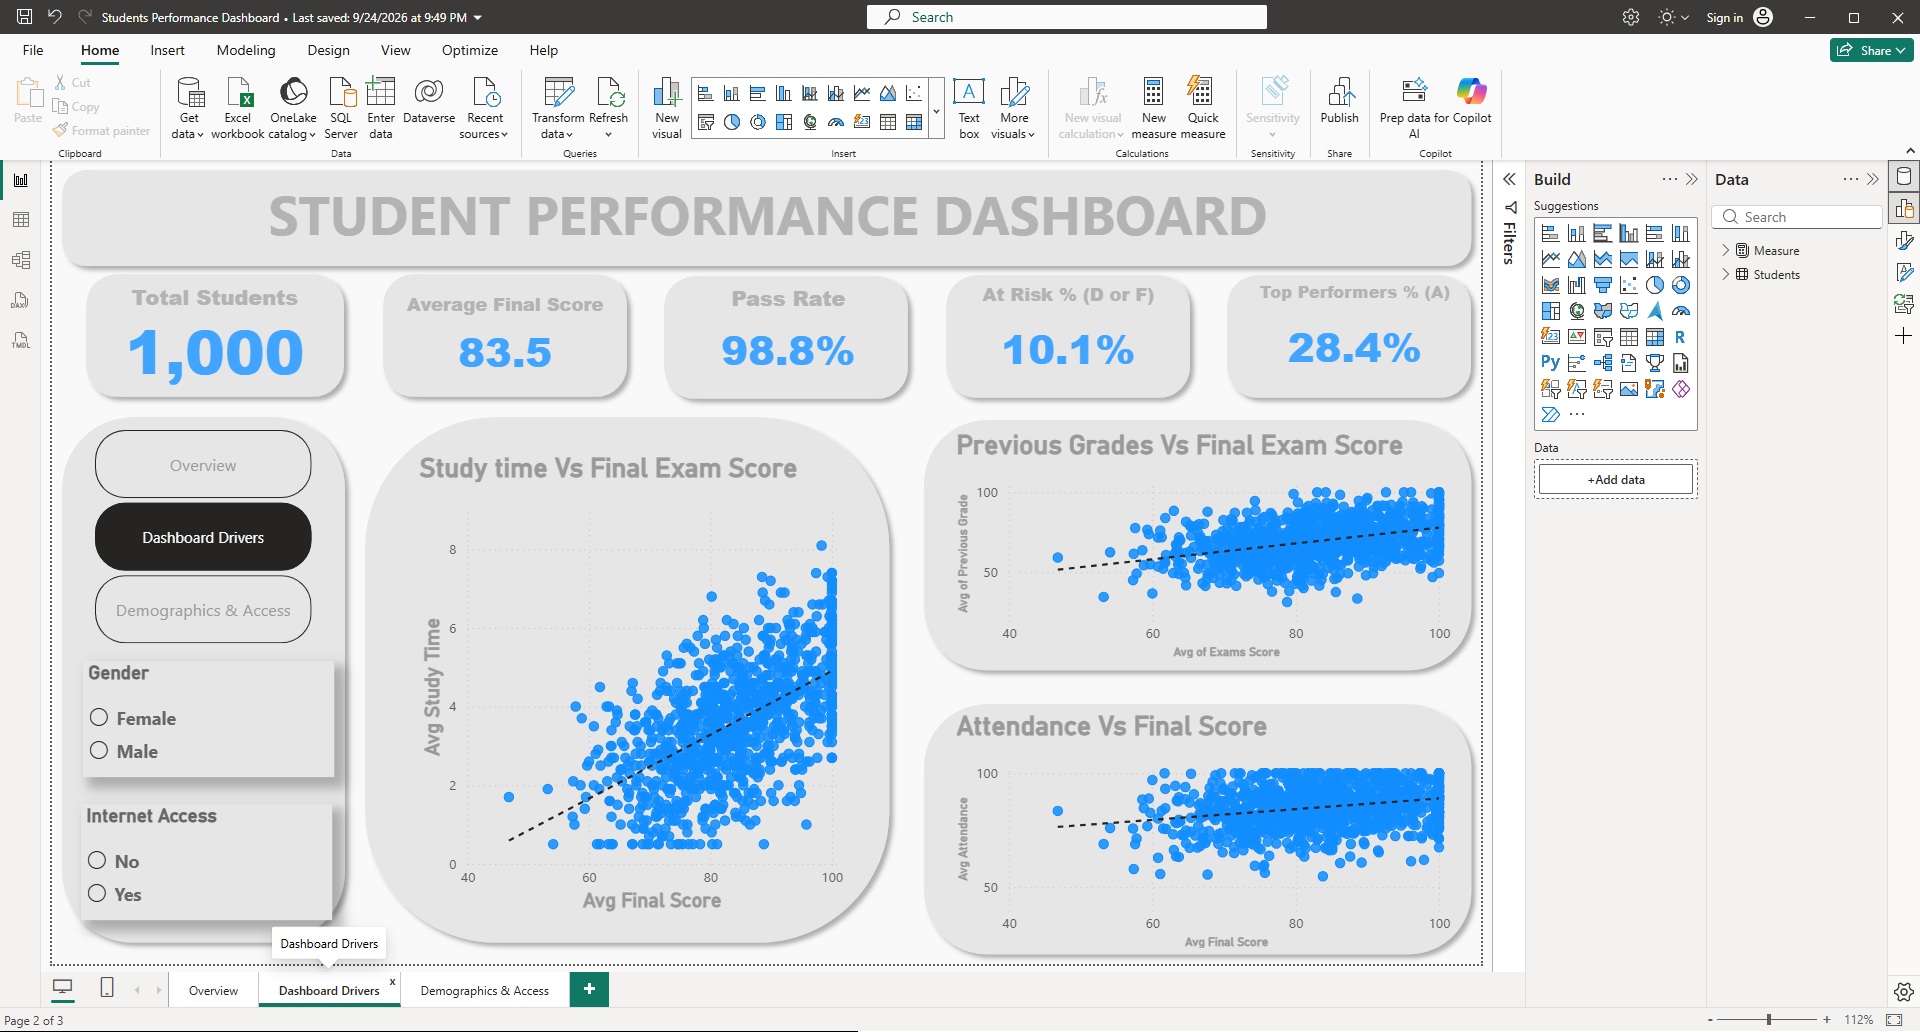

What the dashboard file says about the page in this screenshot:
{"tool":"powerbi","page":{"name":"Dashboard Drivers","canvas":[1280,720],"ordinal":1},"visuals":[{"type":"shape","box":[771.9,223.8,508.1,242.1],"z":0},{"type":"shape","box":[0,0,1280,103.9],"z":1000},{"type":"textbox","box":[126.7,10.3,1027.7,84.5],"z":2000},{"type":"shape","box":[21.6,93.4,248.9,127.9],"z":2000,"group":"g2"},{"type":"shape","box":[287.2,93.4,236.4,127.9],"z":3000,"group":"g1"},{"type":"shape","box":[271.8,221.5,487.6,488.7],"z":3000},{"type":"scatterChart","title":"Study time Vs Final Exam Score","fields":{"X":["Avg(Students.final_exam_score)"],"Y":["Avg(Students.study_time_hours)"],"Category":["Students.student_id"]},"box":[324.3,261.5,393.9,416.8],"z":4000},{"type":"card","title":"Average Final Score","fields":{"Values":["Measure.Average Final Score"]},"box":[311.2,117.4,188.4,90.2],"z":5000,"group":"g1"},{"type":"shape","box":[771.9,478.4,508.1,242.1],"z":5000},{"type":"scatterChart","title":"Previous Grades Vs Final Exam Score","fields":{"X":["Avg(Students.final_exam_score)"],"Y":["Avg(Students.previous_grade)"],"Category":["Students.student_id"]},"box":[805,240.9,456.7,210.1],"z":6000},{"type":"scatterChart","title":"Attendance Vs Final Score","fields":{"X":["Avg(Students.final_exam_score)"],"Y":["Avg(Students.attendance_percent)"],"Category":["Students.student_id"]},"box":[805,492.1,456.7,218.1],"z":7000},{"type":"group","id":"g1","title":"Group 2","box":[287.2,93.4,235.9,127.8],"z":8000},{"type":"shape","box":[1043.6,93.6,236.4,127.9],"z":8000,"group":"g5"},{"type":"group","id":"g2","title":"Group 3","box":[21.6,93.4,249.7,127.8],"z":9000},{"type":"shape","box":[791.4,93.6,236.4,127.9],"z":9000,"group":"g4"},{"type":"group","id":"g3","title":"Group 1","box":[539.1,94.8,236.4,127.9],"z":10000},{"type":"group","id":"g4","title":"Group 4","box":[791.4,93.6,236.4,127.9],"z":11000},{"type":"shape","box":[539.1,94.8,236.4,127.9],"z":11000,"group":"g3"},{"type":"group","id":"g5","title":"Group 5","box":[1043.6,93.6,236.4,127.9],"z":12000},{"type":"card","title":"Pass Rate","fields":{"Values":["Measure.% Pass Rate"]},"box":[570.7,110.1,177.9,96.3],"z":12000,"group":"g3"},{"type":"shape","box":[0,221.2,271.3,488.6],"z":13000},{"type":"card","title":"Total Students","fields":{"Values":["Measure.Total students"]},"box":[44.4,109.4,202.1,97.1],"z":13500,"group":"g2"},{"type":"card","title":"At Risk % (D or F)","fields":{"Values":["Measure.At-Risk %"]},"box":[815.2,108.1,188.8,102.2],"z":14000,"group":"g4"},{"type":"listSlicer","title":"Gender","fields":{"Values":["Students.gender"]},"box":[27.4,448.7,224.9,103.9],"z":14000},{"type":"card","title":"Top Performers % (A)","fields":{"Values":["Measure.% Top Performer"]},"box":[1073.5,107.1,187.8,102.2],"z":15000,"group":"g5"},{"type":"listSlicer","title":"Internet Access","fields":{"Values":["Students.internet_access"]},"box":[26.3,576.6,224.9,103.9],"z":15000},{"type":"pageNavigator","box":[38.8,242.1,194.1,193],"z":16000}]}

Visuals, with their boxes on the page's 1280x720 design canvas (x1, y1, x2, y2). These are canvas units, not pixel positions in the 1920x1032 screenshot, which may show the page scaled, cropped or inside an application window:
shape: detection(772, 224, 1280, 466)
shape: detection(0, 0, 1280, 104)
textbox: detection(127, 10, 1154, 95)
shape: detection(22, 93, 270, 221)
shape: detection(287, 93, 524, 221)
shape: detection(272, 222, 759, 710)
"Study time Vs Final Exam Score" scatterChart: detection(324, 262, 718, 678)
"Average Final Score" card: detection(311, 117, 500, 208)
shape: detection(772, 478, 1280, 720)
"Previous Grades Vs Final Exam Score" scatterChart: detection(805, 241, 1262, 451)
"Attendance Vs Final Score" scatterChart: detection(805, 492, 1262, 710)
"Group 2" group: detection(287, 93, 523, 221)
shape: detection(1044, 94, 1280, 222)
"Group 3" group: detection(22, 93, 271, 221)
shape: detection(791, 94, 1028, 222)
"Group 1" group: detection(539, 95, 776, 223)
"Group 4" group: detection(791, 94, 1028, 222)
shape: detection(539, 95, 776, 223)
"Group 5" group: detection(1044, 94, 1280, 222)
"Pass Rate" card: detection(571, 110, 749, 206)
shape: detection(0, 221, 271, 710)
"Total Students" card: detection(44, 109, 246, 206)
"At Risk % (D or F)" card: detection(815, 108, 1004, 210)
"Gender" listSlicer: detection(27, 449, 252, 553)
"Top Performers % (A)" card: detection(1074, 107, 1261, 209)
"Internet Access" listSlicer: detection(26, 577, 251, 680)
pageNavigator: detection(39, 242, 233, 435)
